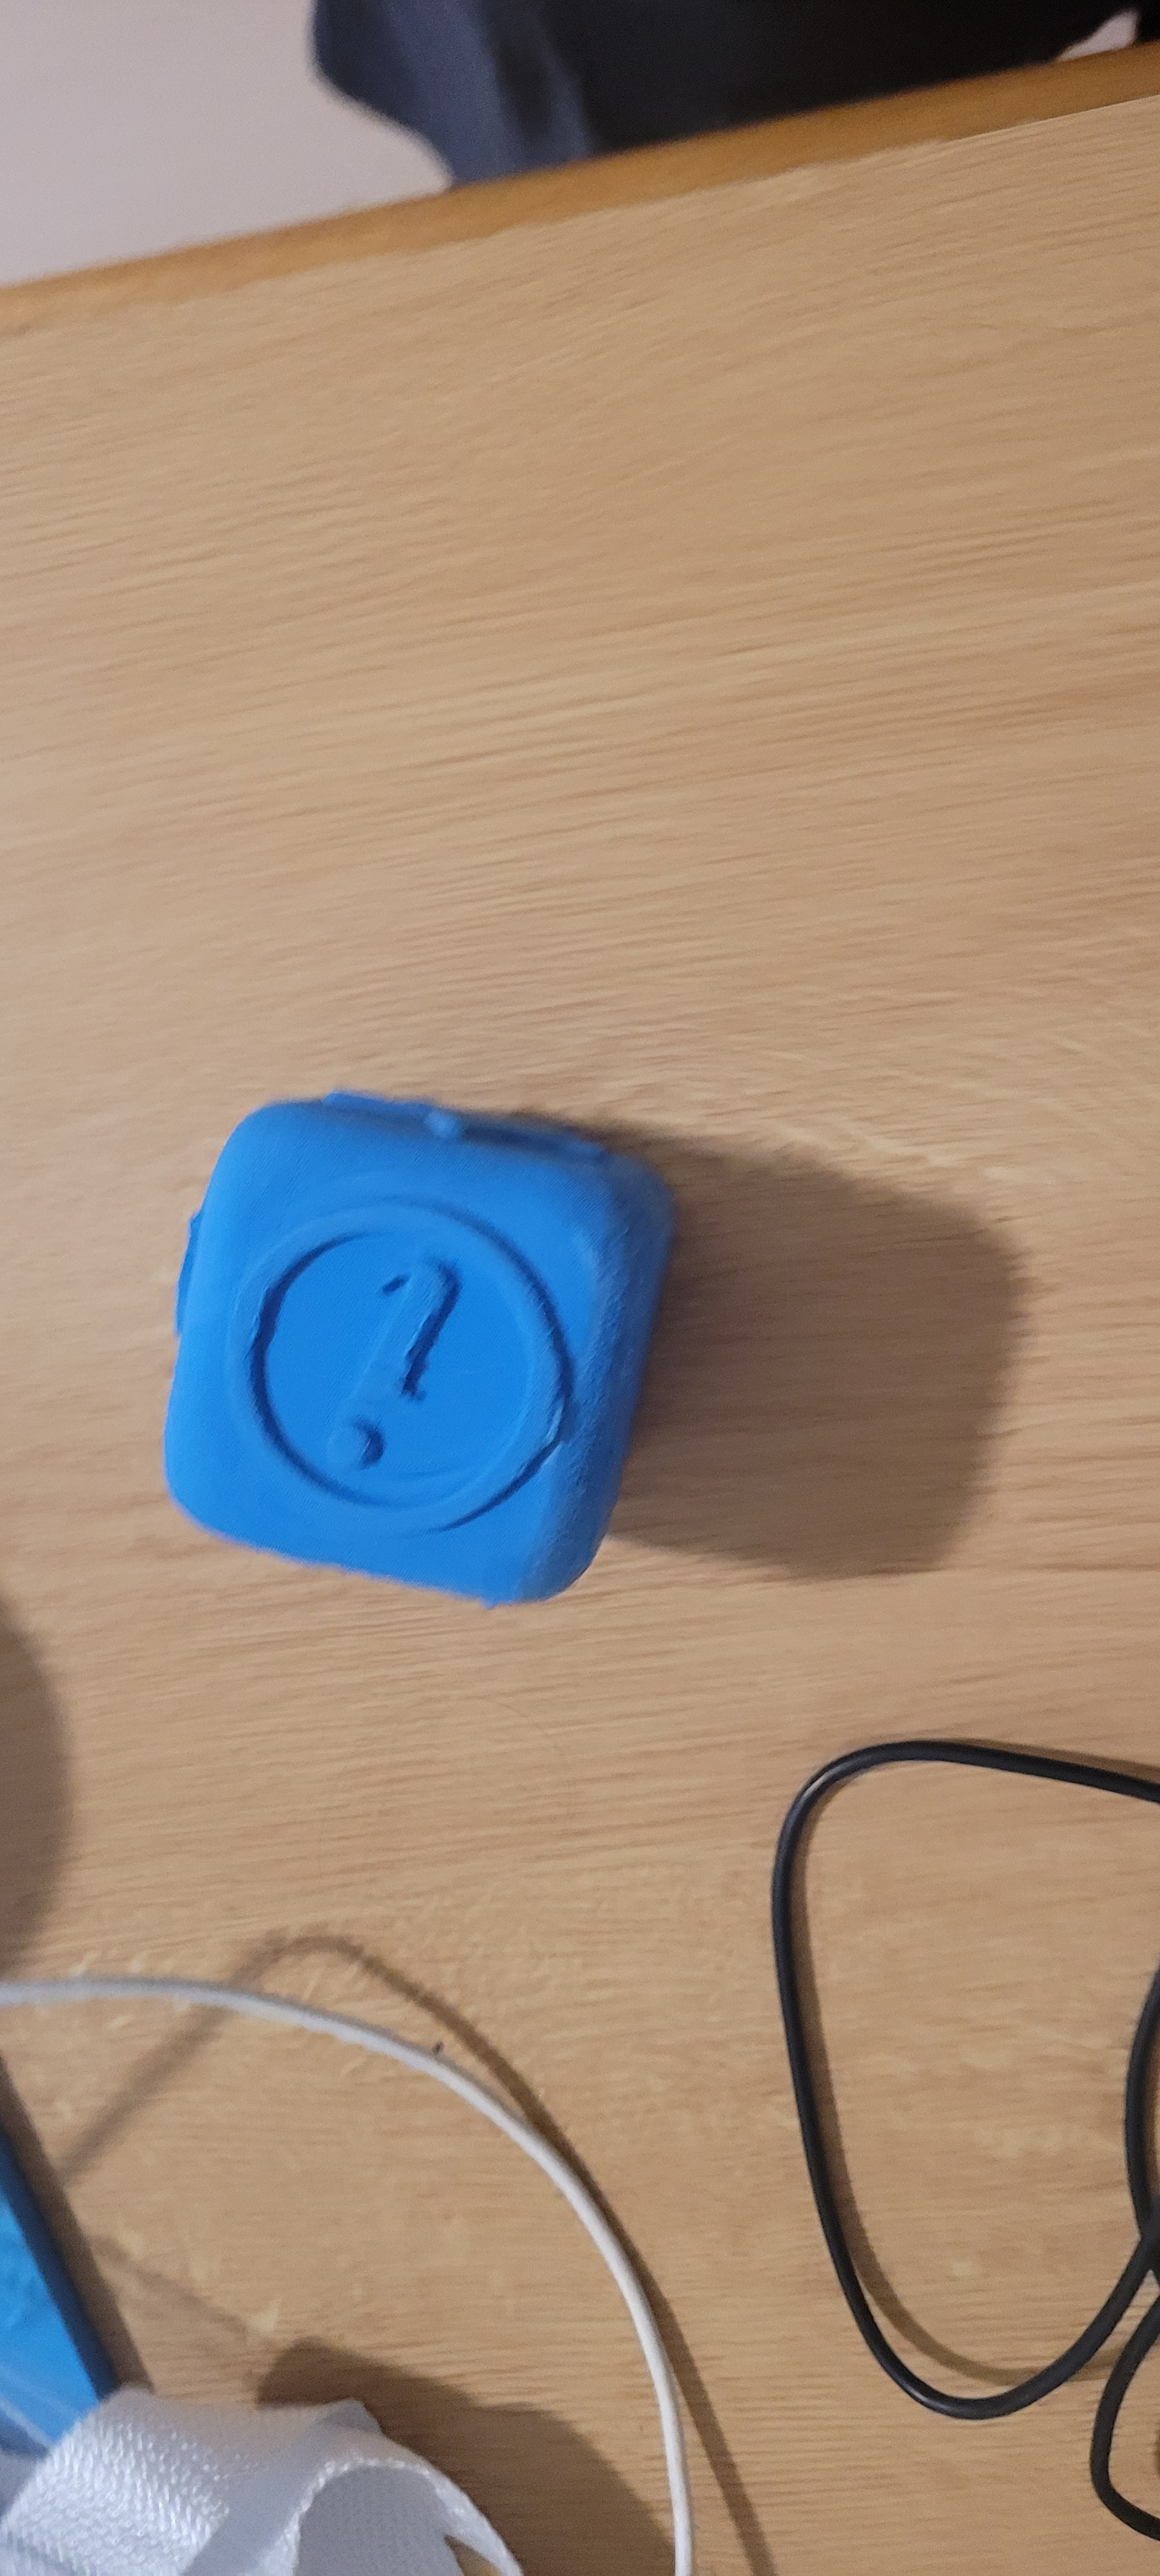Info: (212, 1211, 611, 1566)
